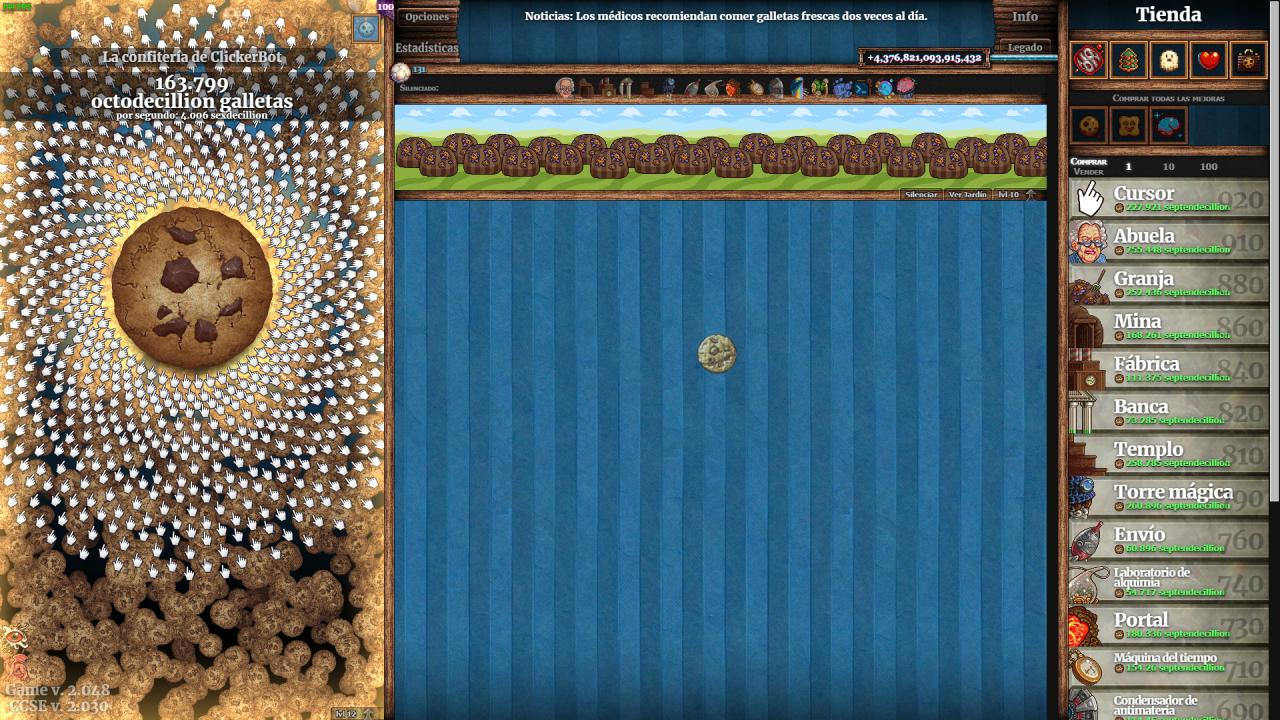GoldenCookie: (696, 332, 740, 375)
